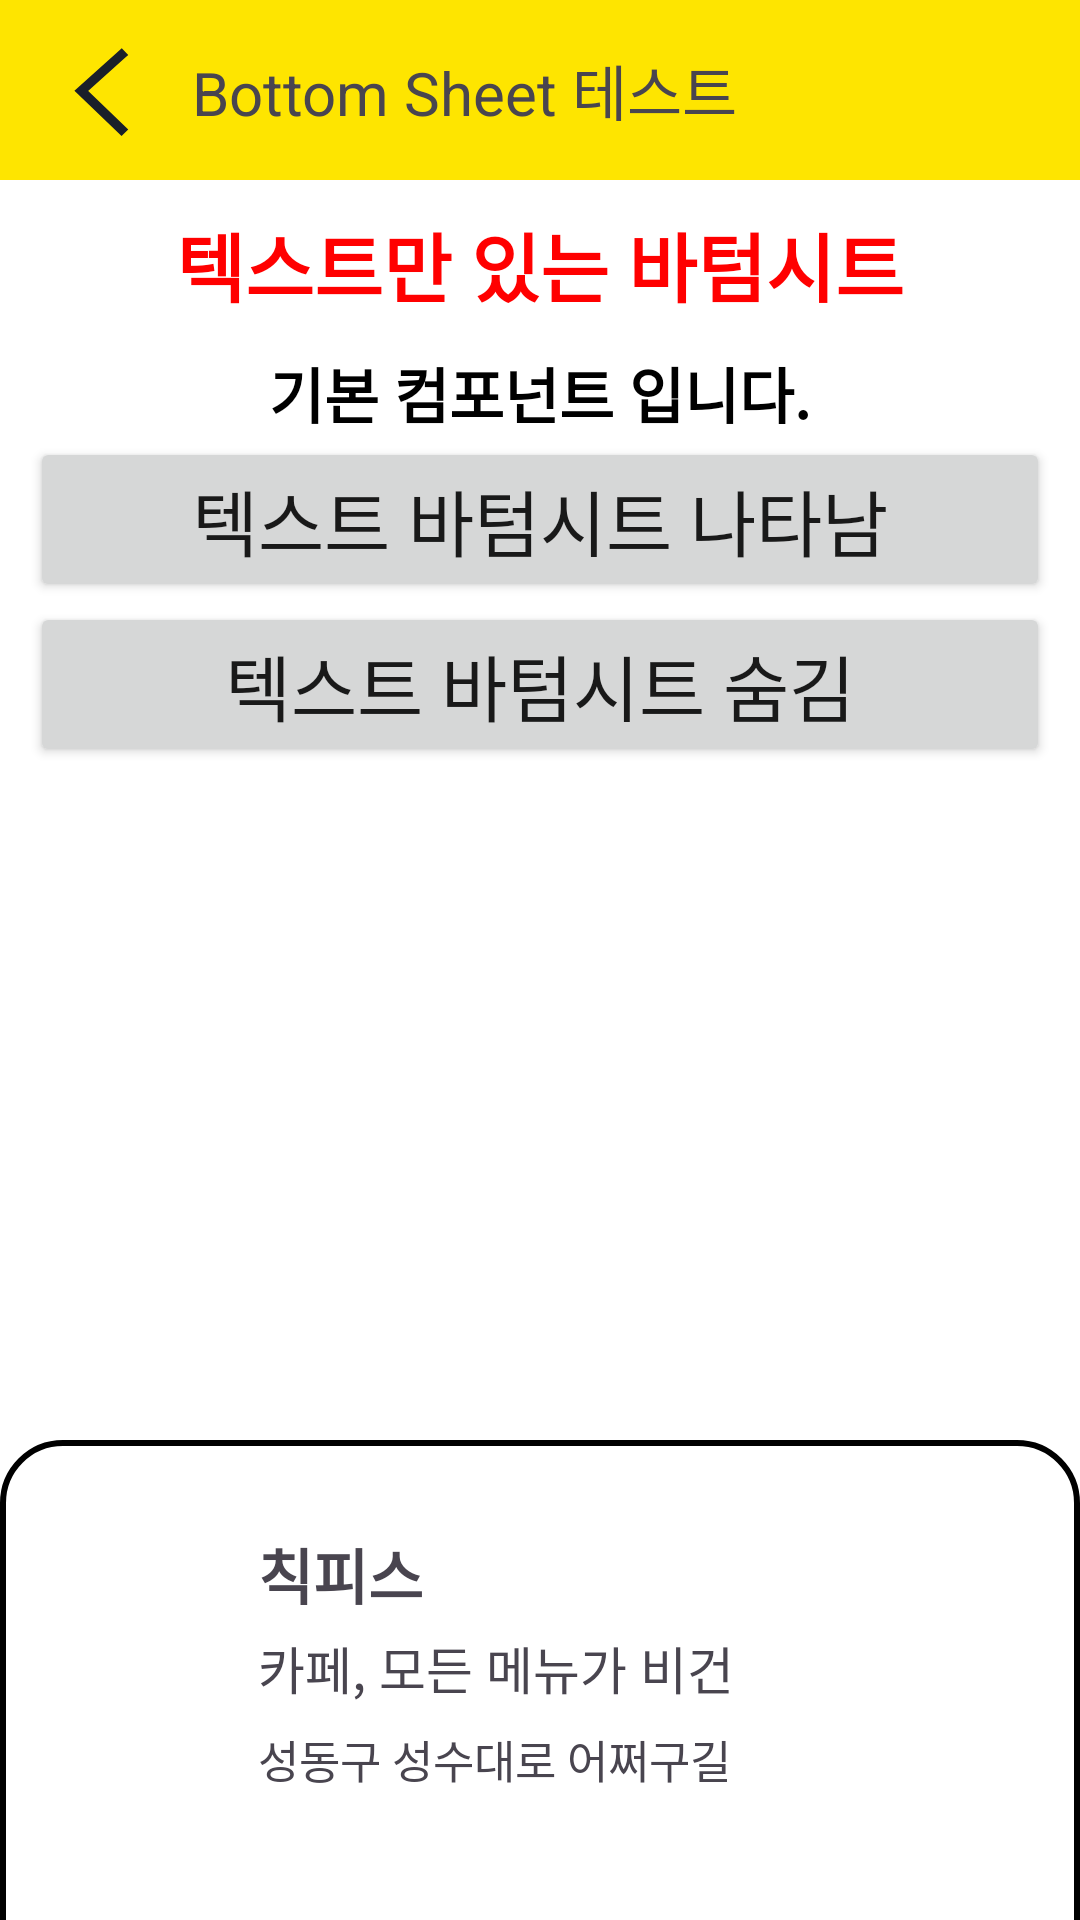

Point at icon controls on the screen. Image size 1080w x 1920h, points as [x,y].
뒤로가기: [101,92]
